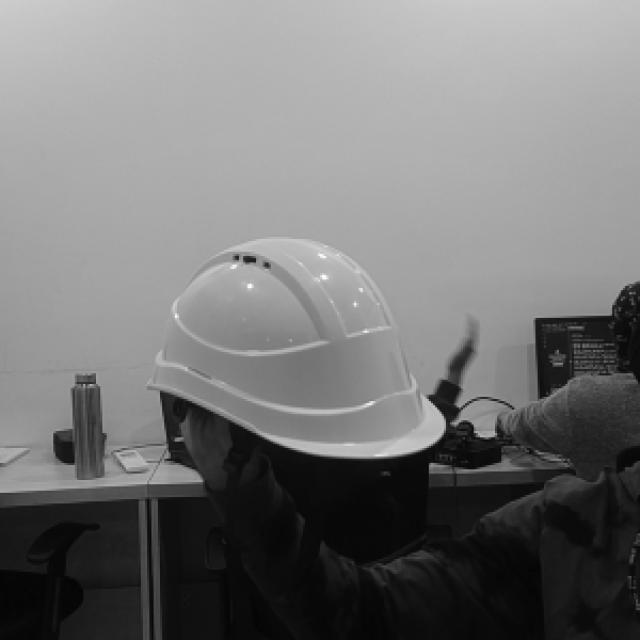safety_helmet: (145, 238, 446, 460)
